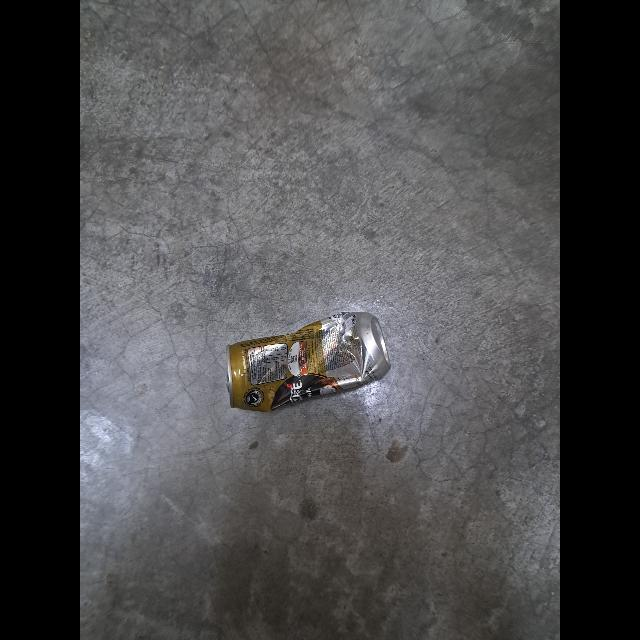lata: (225, 312, 392, 412)
